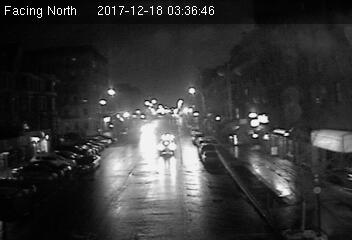car: (76, 153, 102, 173), (198, 150, 221, 167), (157, 140, 176, 157)
